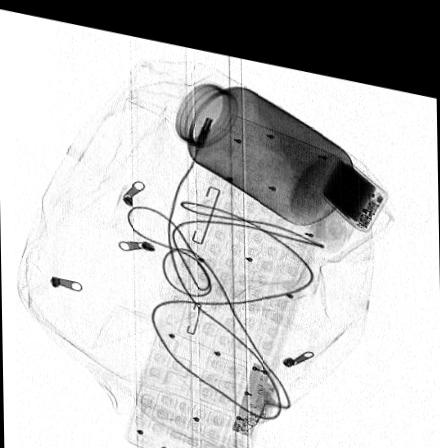Powerbank: (319, 140, 389, 213)
